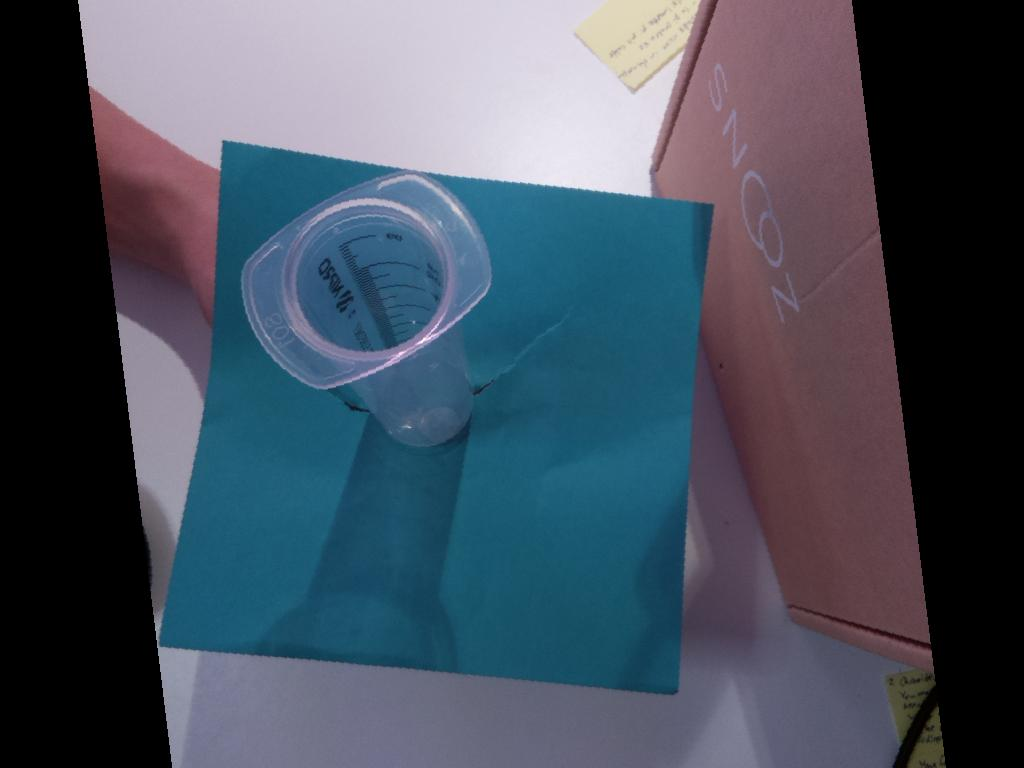clean: (239, 167, 495, 392)
